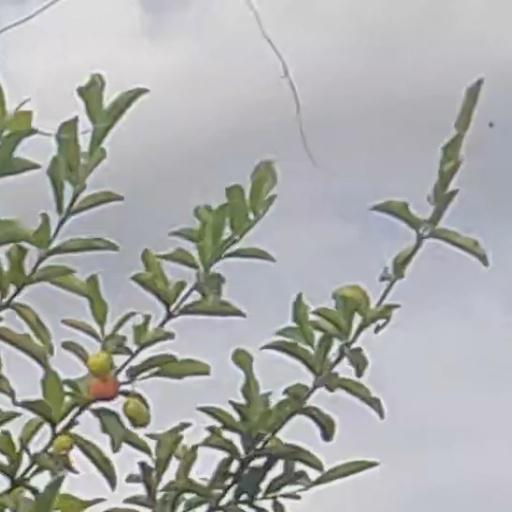acerola_verde: (126, 403, 151, 426), (86, 353, 110, 371)
acerola_vermelha: (91, 376, 118, 399)
